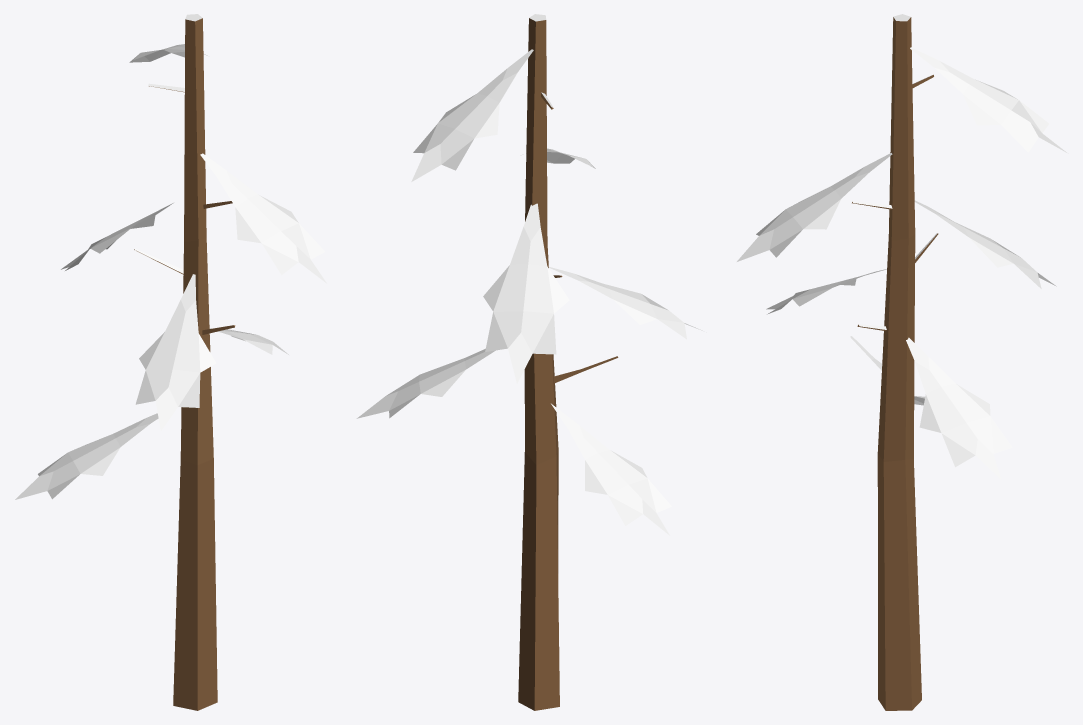
The model's file is Dead_Pine_Tree_crk_OneSided_l_Snow_02.fbx.
3 renders of one model, left to right at view 1: azimuth 30°, elevation 25°; view 2: azimuth 150°, elevation 25°; view 3: azimuth 270°, elevation 25°, orthographic.
Parts seen in each view (by area): view 1: Dead_Pine_Tree_crk_OneSided_l_Snow_02; view 2: Dead_Pine_Tree_crk_OneSided_l_Snow_02; view 3: Dead_Pine_Tree_crk_OneSided_l_Snow_02.
Part boxes in pixels (bbox=[...]): Dead_Pine_Tree_crk_OneSided_l_Snow_02: bbox=[15, 14, 326, 710]; Dead_Pine_Tree_crk_OneSided_l_Snow_02: bbox=[356, 14, 702, 710]; Dead_Pine_Tree_crk_OneSided_l_Snow_02: bbox=[737, 14, 1068, 710].
Bounding box in the file's own units: 459 × 1042 × 459.
